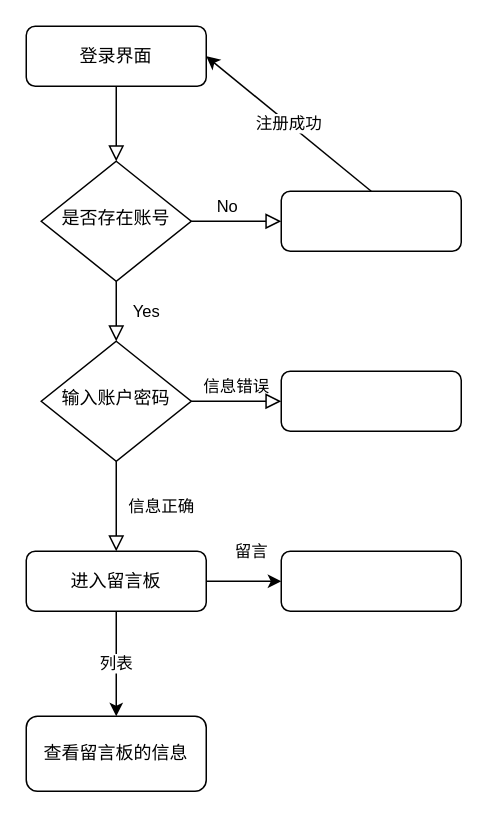
Some shapes in this 488 by 818 pixel diagram are drawn without their labels. The shapes that lost their labels are listed below. From the top down, each one's centre as x and y in pixels, then its label:
At (370,220): "注册界面".
At (370,400): "报错".
At (370,580): "输入标题、内容".
